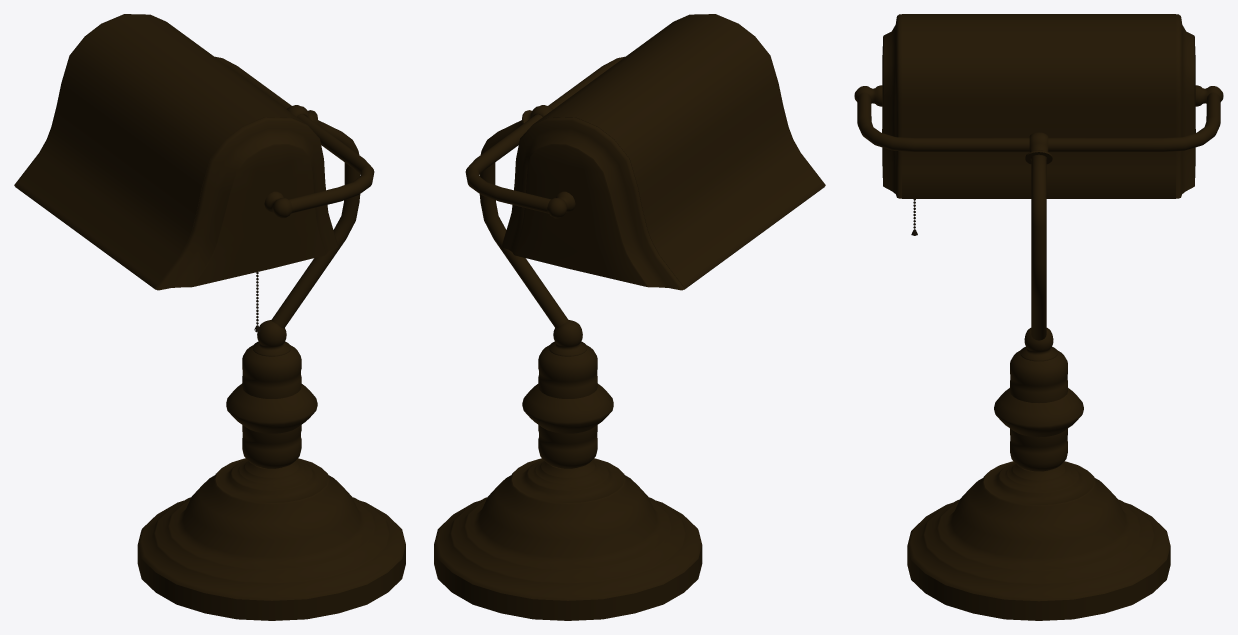
File: TableLamp.FBX
The picture shows the model from 3 angles, left to right: view 1: azimuth 30°, elevation 25°; view 2: azimuth 150°, elevation 25°; view 3: azimuth 270°, elevation 25°; orthographic projection.
Visible parts, largest first — view 1: GoldLamp_Head, GoldLamp; view 2: GoldLamp_Head, GoldLamp; view 3: GoldLamp_Head, GoldLamp.
Boxes of the visible parts, x1,y1,x2,y2 form: GoldLamp_Head: [14, 14, 338, 290]; GoldLamp: [137, 56, 405, 620]; GoldLamp_Head: [501, 14, 825, 290]; GoldLamp: [434, 56, 702, 620]; GoldLamp_Head: [882, 14, 1195, 198]; GoldLamp: [854, 85, 1223, 620].
Size of the model in its own units: 23.61 by 38.52 by 25.38.
